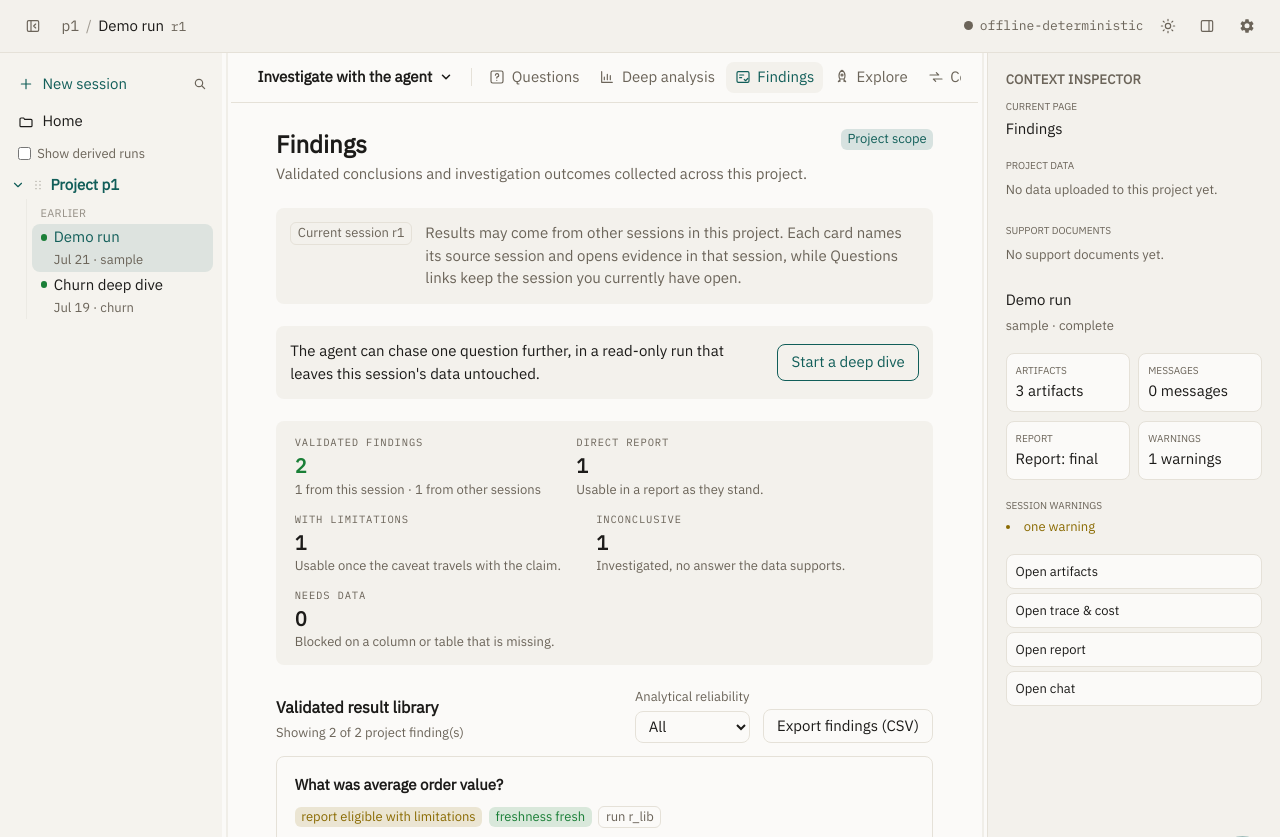
Findings reliability filter › shows a distinct empty state when no finding matches the reliability
Check: the heading "What was average order value?" is shown, box left=295, top=775, right=503, bottom=794
Select "low" in the dropdown labelled "Analytical reliability". click: (692, 727)
box: left=635, top=711, right=750, bottom=743
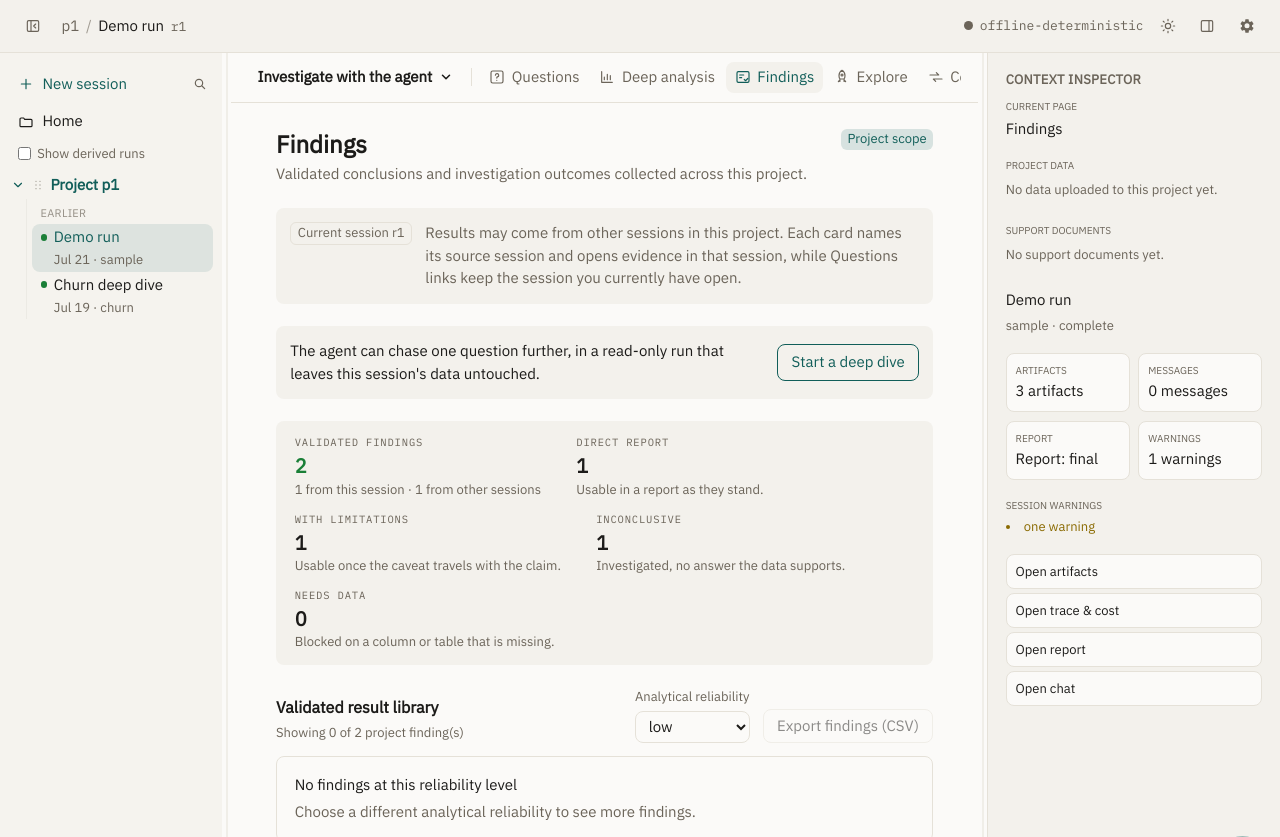
Check: the text "No findings at this reliability level" is shown, box left=295, top=775, right=517, bottom=794
